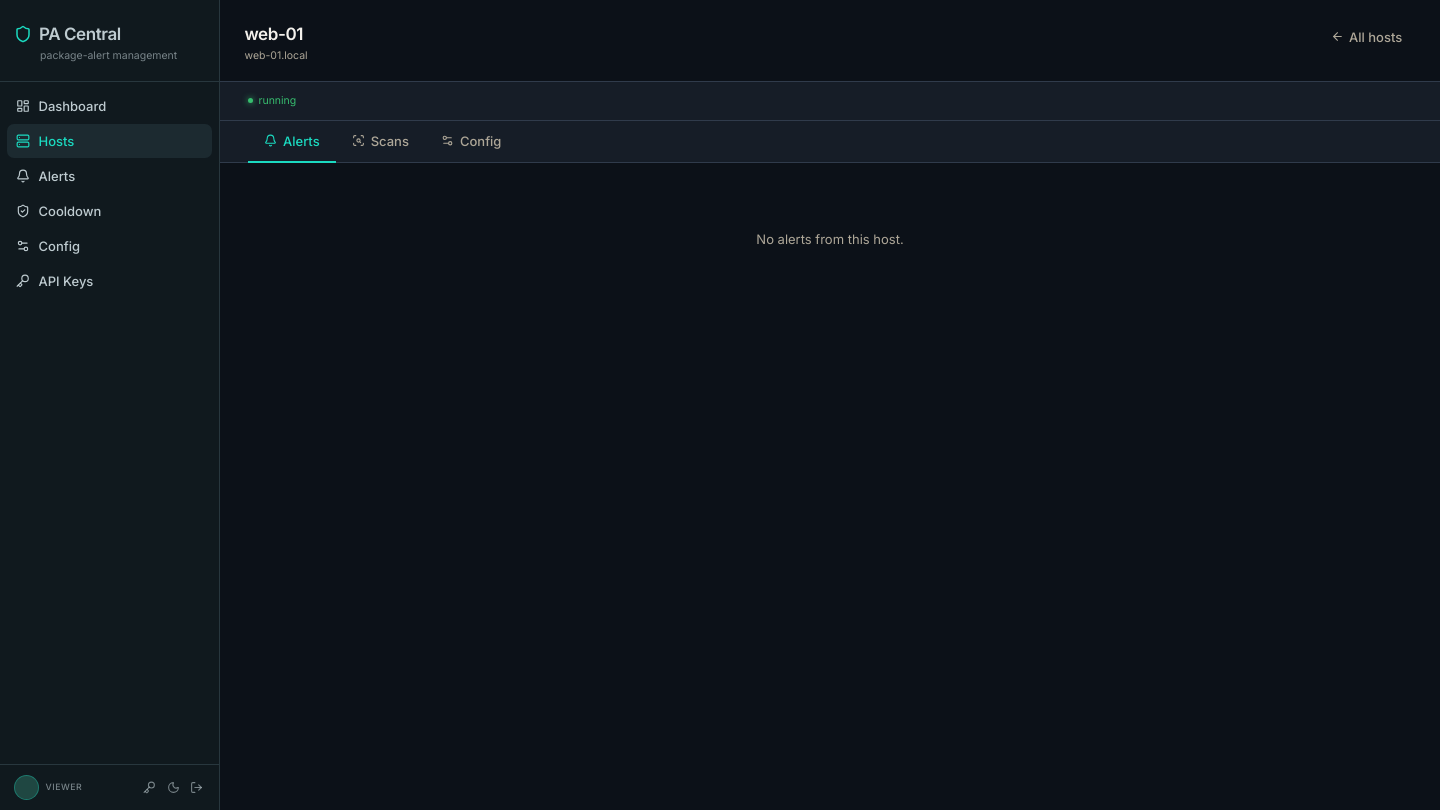
Test case: HostDetail scan row — risks › shows a risk count badge alongside the finding count
This screenshot has width=1440, height=810.
Click the tab "Scans": (380, 142) [336,121,425,163]
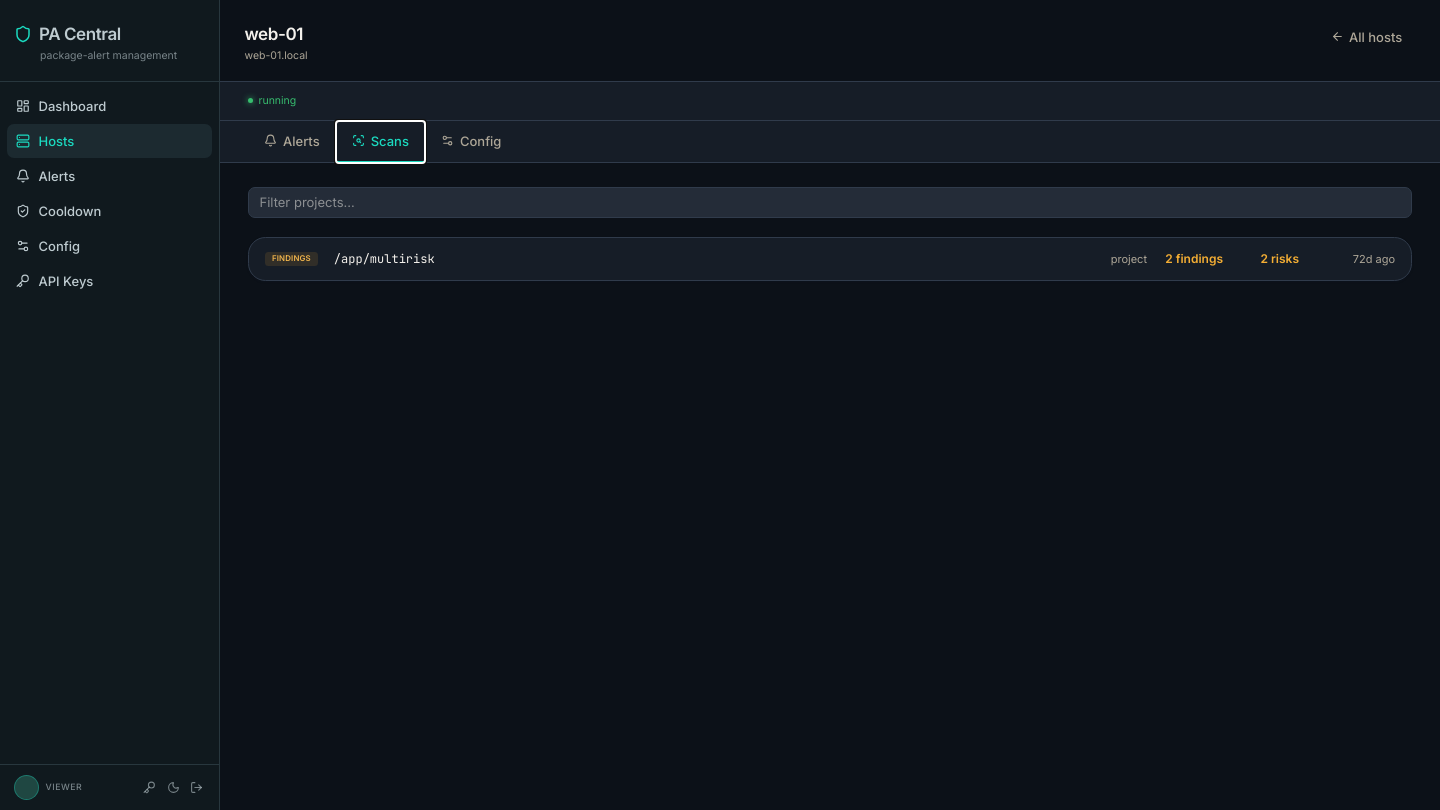
Check: the text "/app/multirisk" is shown, box [334,251,435,267]
Check: the text "2 findings" is shown, box [1163,250,1223,268]
Check: the text "2 risks" is shown, box [1260,251,1299,266]
